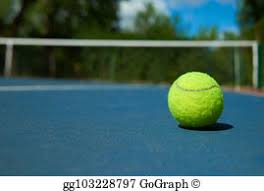tennis_ball: (166, 70, 225, 131)
